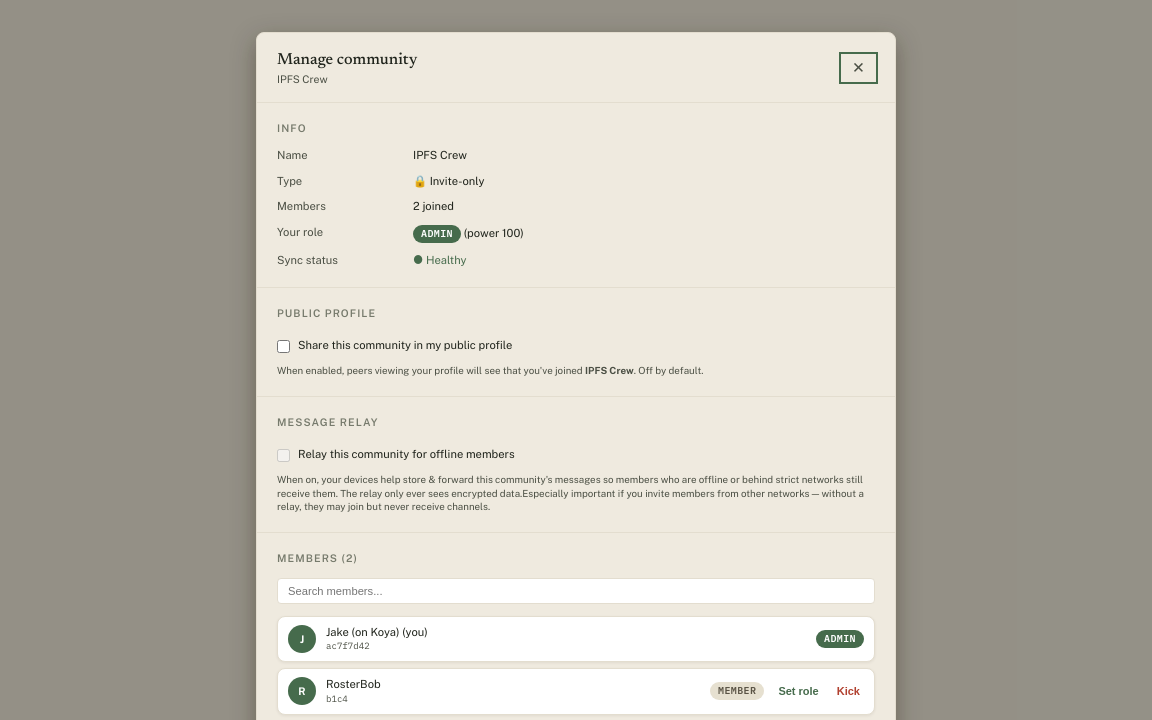
it: member display-name resolution (ZEB-907) › search matches the resolved name, not just roster/hex
Type "koya" into the field labelled "Search members" at {"x": 576, "y": 591}, box [277,578,875,604]
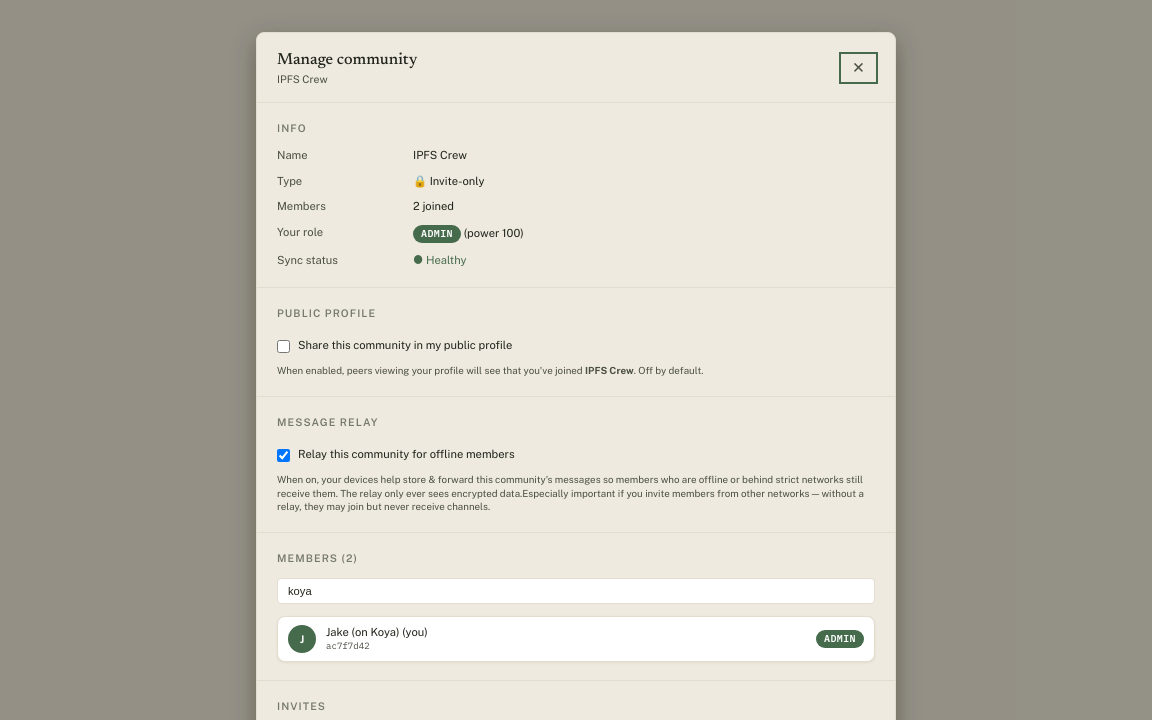
Expected: the text "Jake (on Koya) (you)" is shown, [326,625,428,639]
Expected: the text "RosterBob" is gone
